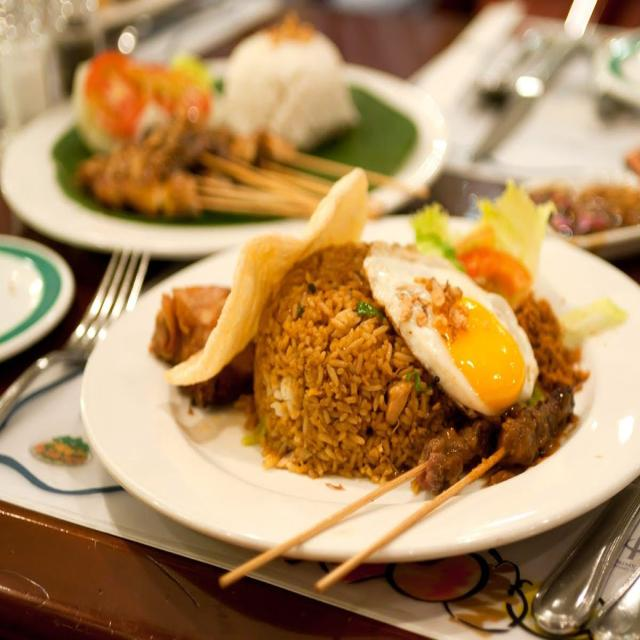Nasi Goreng: (253, 244, 449, 464)
